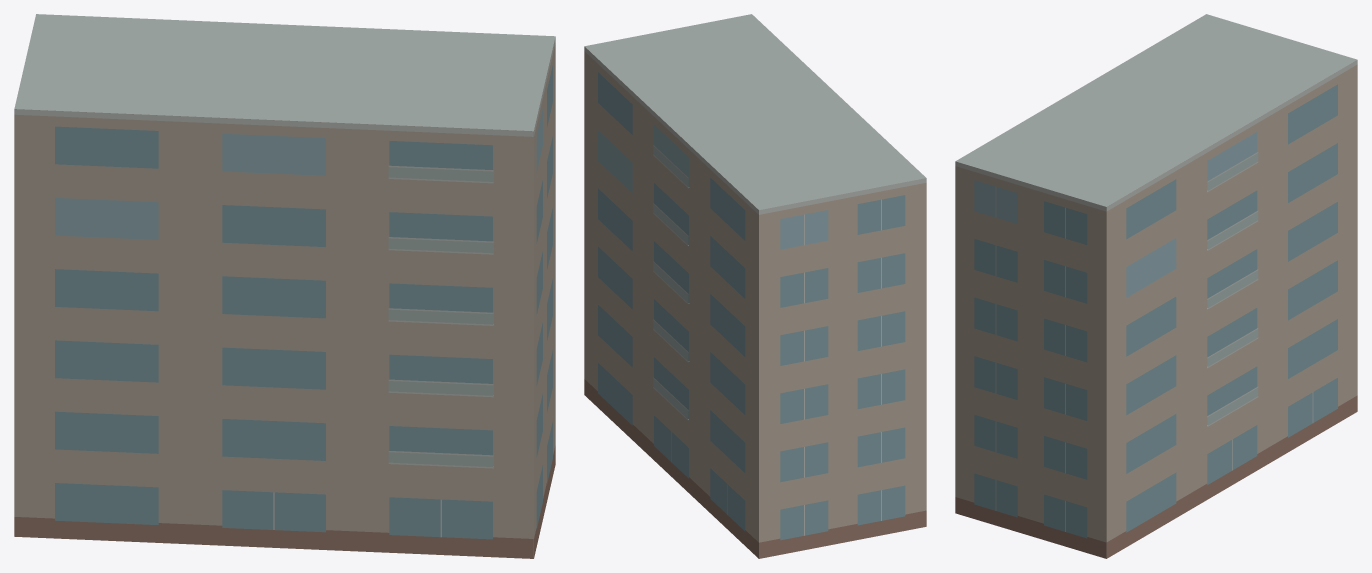
Rendered from survey-upis-32551063.glb.
The picture shows the model from 3 angles, left to right: view 1: azimuth 30°, elevation 25°; view 2: azimuth 150°, elevation 25°; view 3: azimuth 270°, elevation 25°; orthographic projection. The views are drawn at different scales.
Visible parts, largest first — view 1: survey-upis-32551063.tmp; view 2: survey-upis-32551063.tmp; view 3: survey-upis-32551063.tmp.
Boxes of the visible parts, bbox=[...] form: survey-upis-32551063.tmp: bbox=[14, 14, 555, 558]; survey-upis-32551063.tmp: bbox=[584, 14, 926, 558]; survey-upis-32551063.tmp: bbox=[955, 14, 1357, 558].
Size of the model in its own units: 21.53 by 18.3 by 18.97.
